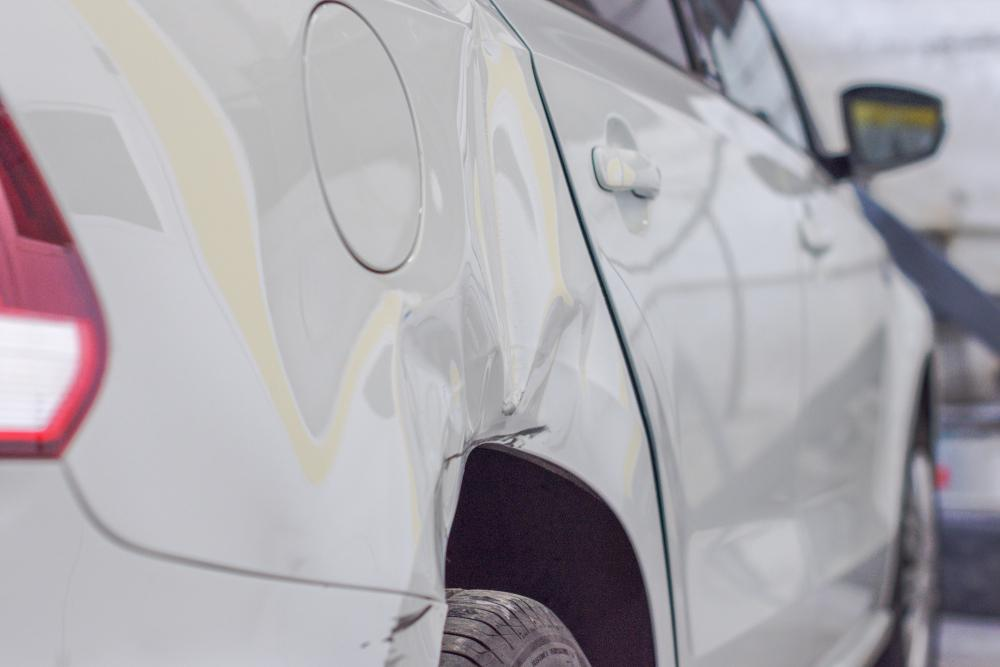dent: (398, 5, 587, 564)
